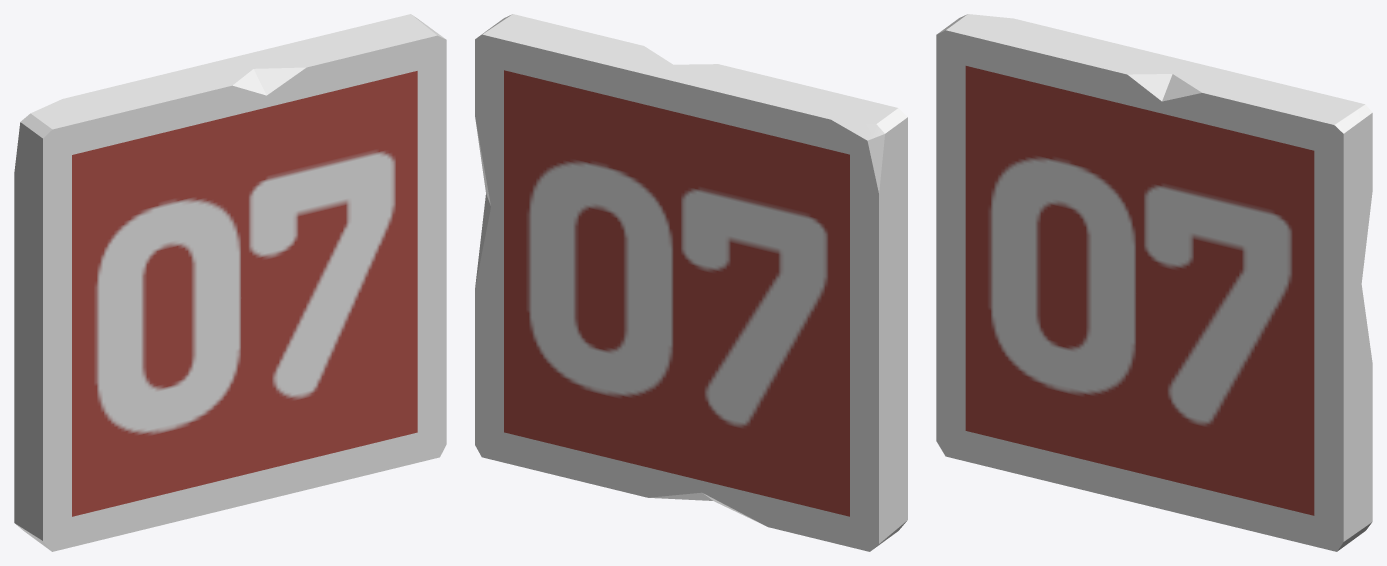
The model's file is SM_SignBorder_Number_07.fbx.
The picture shows the model from 3 angles, left to right: view 1: azimuth 30°, elevation 25°; view 2: azimuth 150°, elevation 25°; view 3: azimuth 330°, elevation 25°; orthographic projection.
Parts seen in each view (by area): view 1: SM_SignBorder_Number_07; view 2: SM_SignBorder_Number_07; view 3: SM_SignBorder_Number_07.
Boxes of the visible parts, x1,y1,x2,y2 form: SM_SignBorder_Number_07: (14,14,446,551); SM_SignBorder_Number_07: (475,14,907,551); SM_SignBorder_Number_07: (936,14,1372,551).
Size of the model in its own units: 117 by 117 by 14.42.
1 material, 1 textured.
